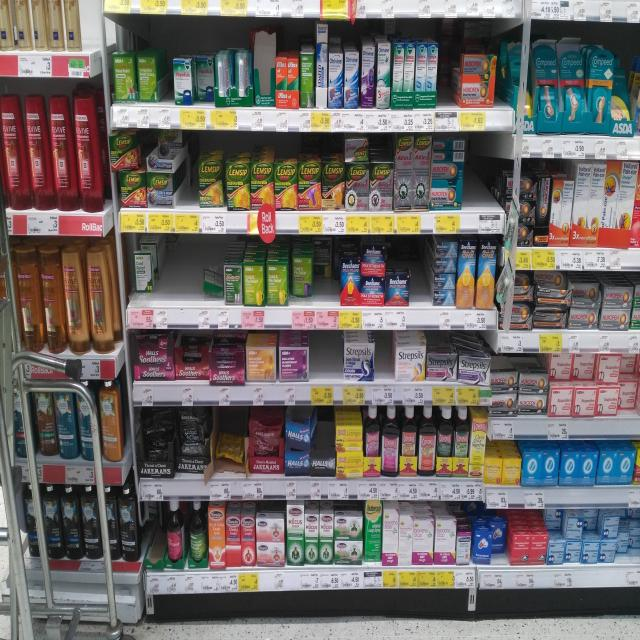void: (161, 237, 201, 304), (469, 139, 498, 210), (312, 336, 340, 381)
